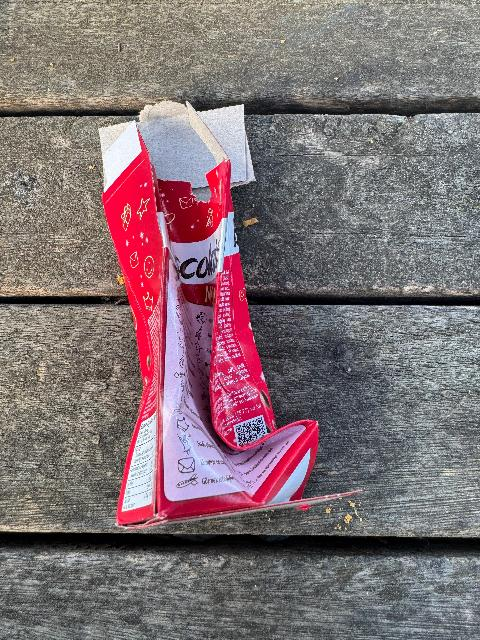Kagit: (75, 103, 327, 528)
